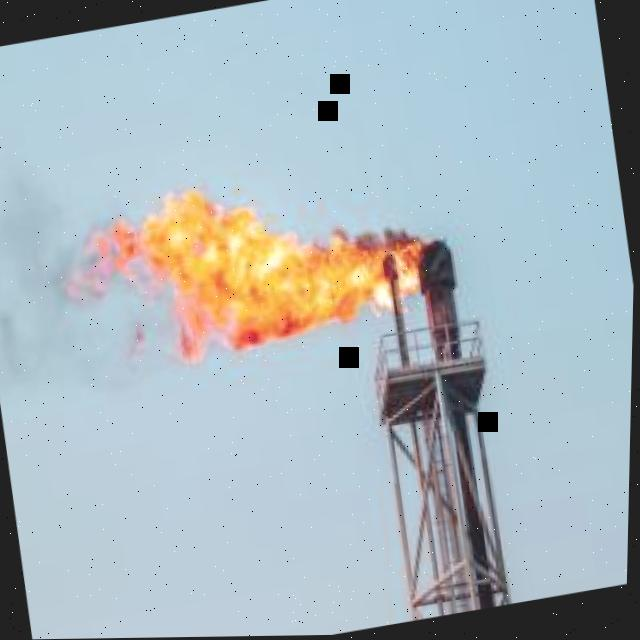fire: (86, 190, 435, 362)
smoke: (354, 228, 424, 250)
